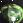with_mask: (2, 2, 23, 23)
